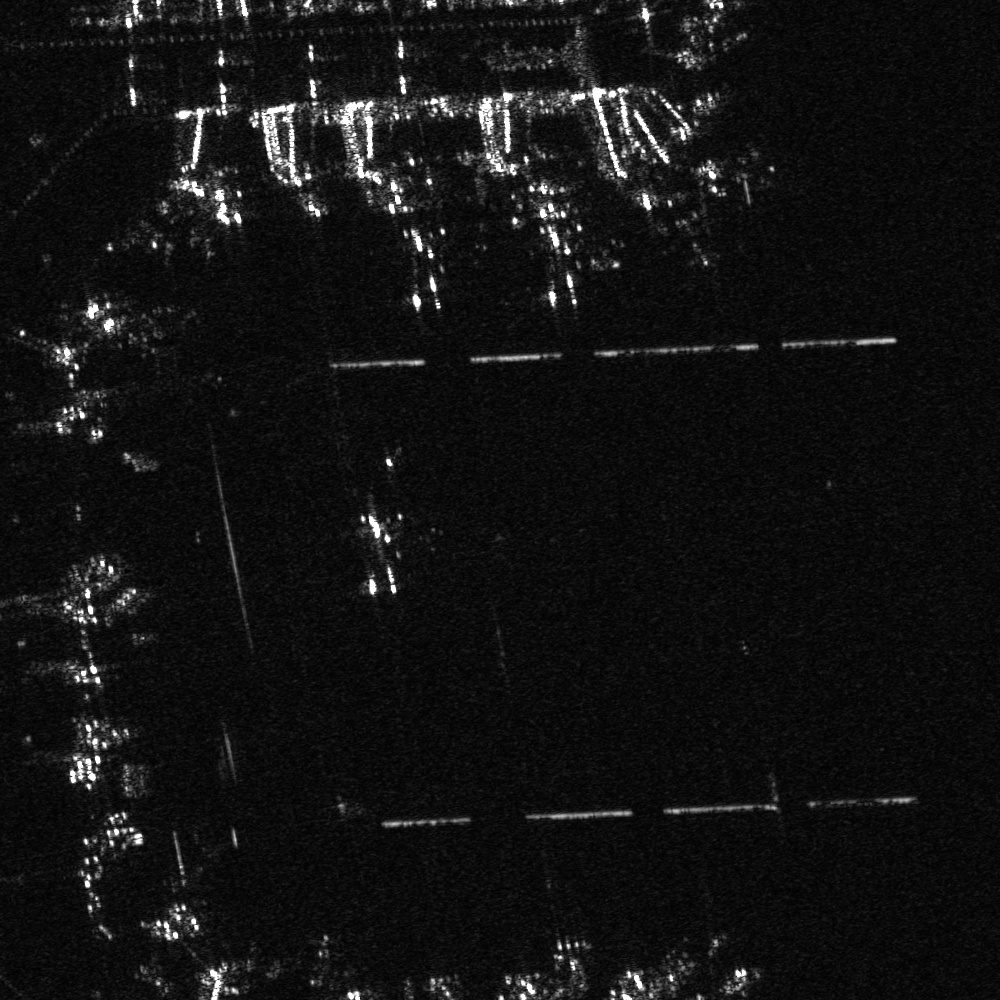A320/321: (515, 193, 597, 312), (691, 142, 796, 211)
Boeing737: (637, 184, 723, 281)
Boeing787: (377, 221, 462, 316)
other: (321, 492, 431, 597)
